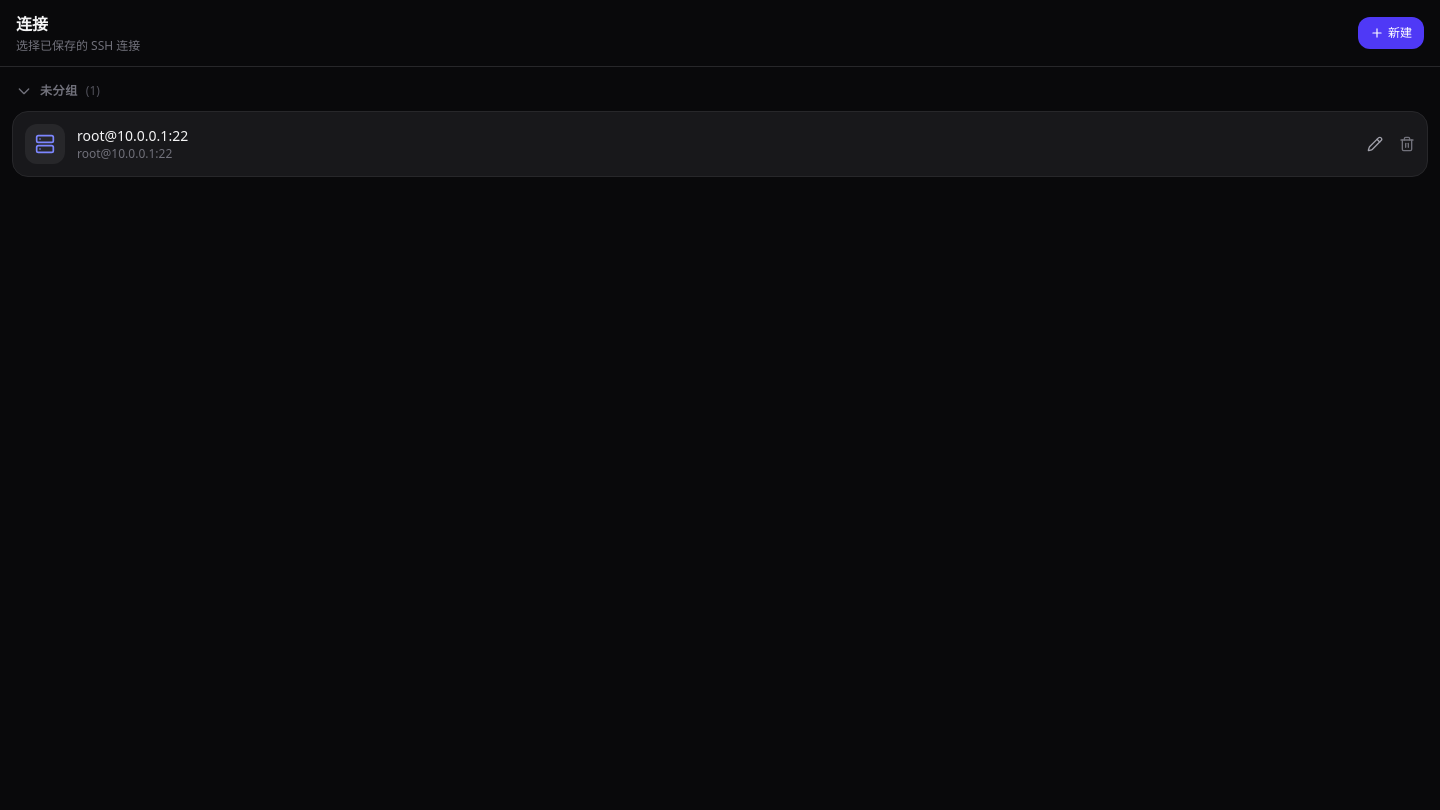
Scenario: 删除确认框走隐私模式口径 › 没有名字的连接在非隐私模式下显示 user@host:port
The width and height of the screenshot is (1440, 810).
Click the button named "删除".
click(1407, 144)  # box [1391,128,1423,160]
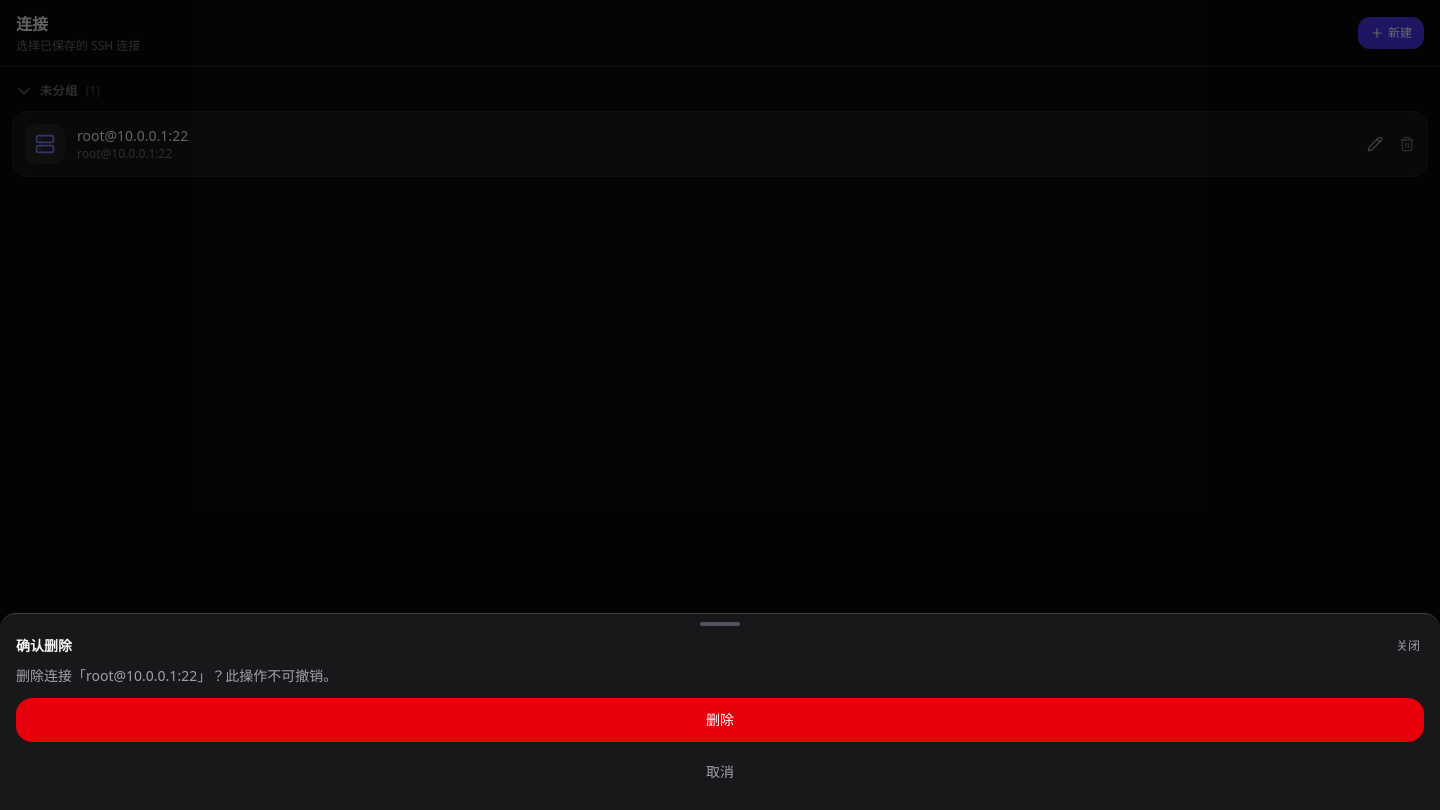
Expected: the text "删除连接「root@10.0.0.1:22」" is shown, [16,666,337,685]
